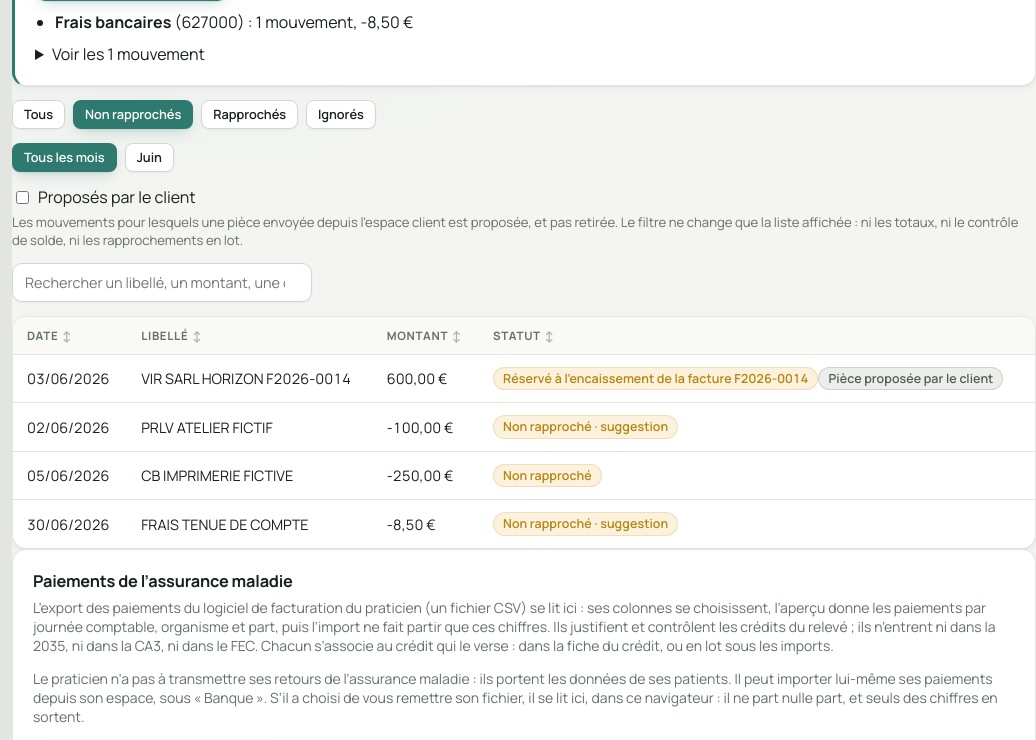
Test: un dossier basculé, ses ventes facturées lues en entier › des accès lus en partie : personne n’est dit « le client », et la carte le dit
(page scrolled)
Click the row that starts with "VIR SARL HORIZON F2026-0014" at (524, 379), box [13,354,1035,403]
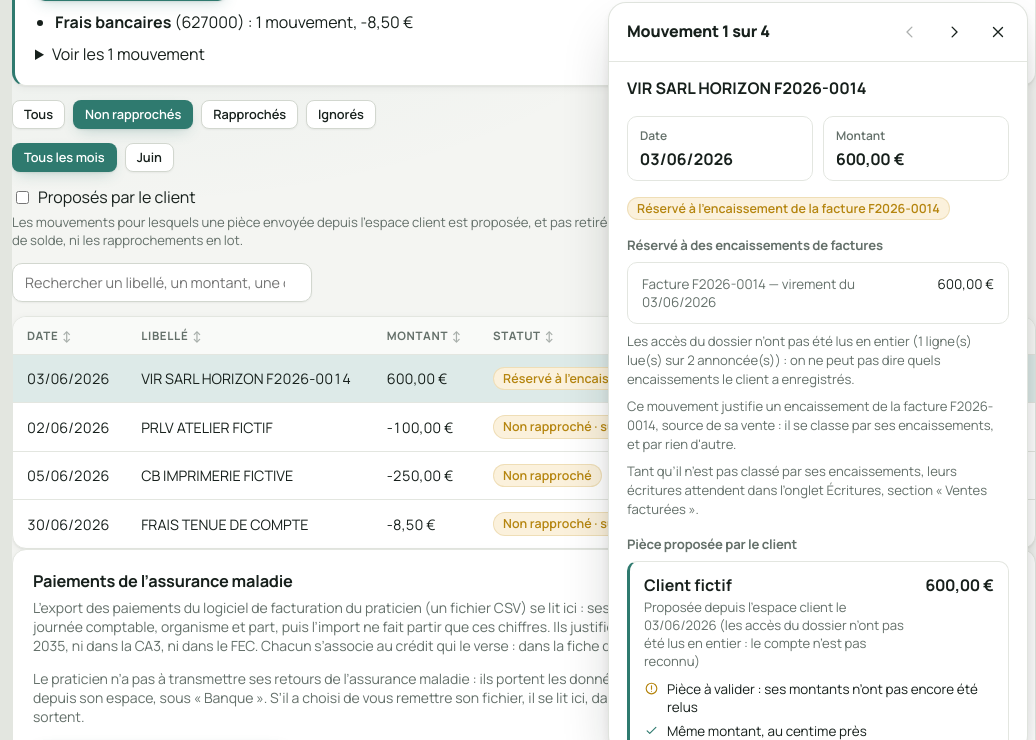
Expected: the text "Les accès du dossier n’ont pas été lus en entier (" is shown, [627,332,972,388]
